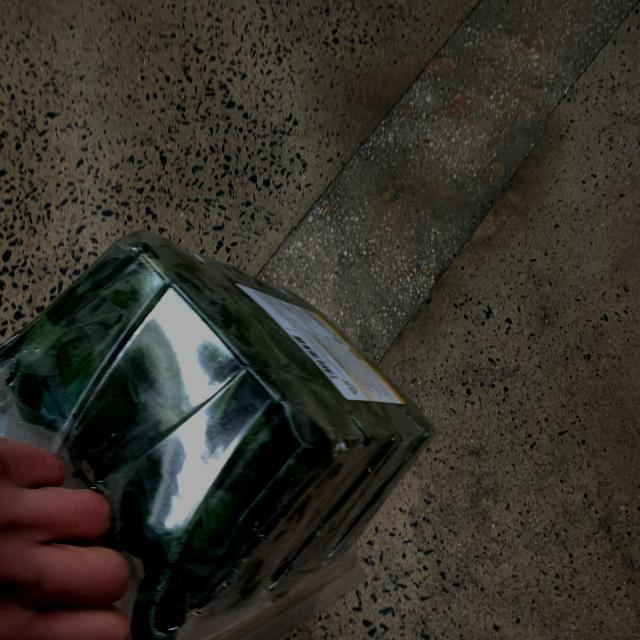Salad: (0, 230, 439, 640)
